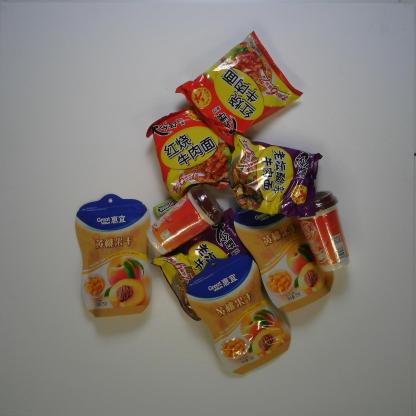Dried Fruit: (184, 250, 293, 378), (234, 203, 335, 313), (74, 193, 152, 323)
Gum: (149, 195, 179, 217)
Instant Drink: (146, 181, 229, 256), (297, 191, 352, 275)
Instant Noodles: (173, 29, 304, 148), (151, 208, 250, 326), (226, 127, 323, 221), (144, 105, 233, 202)
